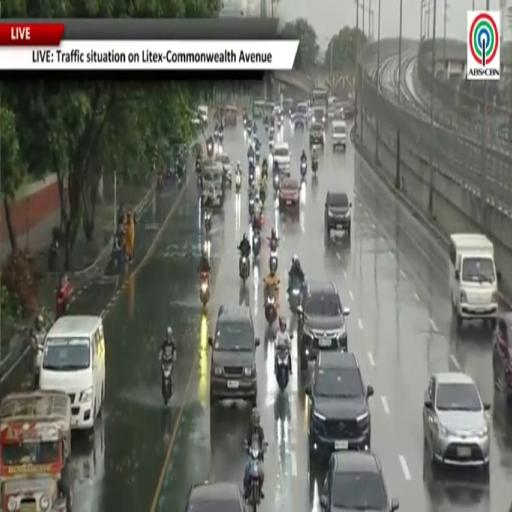car: (306, 351, 374, 458), (423, 372, 490, 470), (209, 304, 260, 406), (320, 452, 399, 511), (298, 281, 350, 370), (186, 483, 245, 511), (493, 312, 511, 402), (325, 191, 351, 239), (202, 162, 224, 209), (279, 179, 299, 211), (273, 142, 290, 175), (216, 153, 232, 185), (332, 120, 346, 151), (309, 122, 324, 147), (340, 101, 355, 119), (311, 106, 326, 124), (294, 103, 308, 122), (293, 112, 307, 130), (254, 101, 266, 118), (198, 105, 208, 125), (283, 98, 294, 115)
jeepney: (0, 391, 73, 511), (225, 105, 238, 126), (253, 101, 266, 118)
motorcycle: (247, 437, 267, 511), (30, 330, 44, 389), (275, 346, 290, 392), (110, 234, 124, 273), (162, 359, 173, 405), (289, 279, 304, 312), (265, 287, 277, 325), (200, 272, 210, 307), (48, 239, 58, 271), (239, 256, 249, 283), (252, 230, 260, 258), (269, 251, 278, 274), (205, 211, 211, 236), (224, 169, 232, 187), (235, 173, 242, 193), (262, 160, 267, 186), (157, 173, 164, 191), (300, 161, 307, 179), (259, 187, 266, 204), (207, 141, 214, 157), (273, 173, 279, 191), (249, 171, 255, 188), (268, 126, 275, 140), (249, 198, 254, 217), (312, 158, 318, 173), (246, 123, 252, 136), (269, 139, 274, 153), (248, 154, 254, 165), (196, 160, 201, 173), (219, 131, 223, 146), (256, 149, 260, 164), (277, 118, 282, 129), (243, 118, 247, 129), (214, 131, 218, 141)
